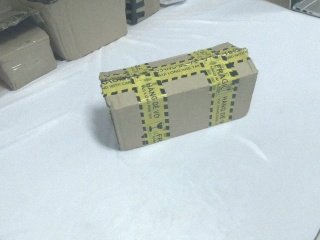box: (101, 43, 257, 150)
